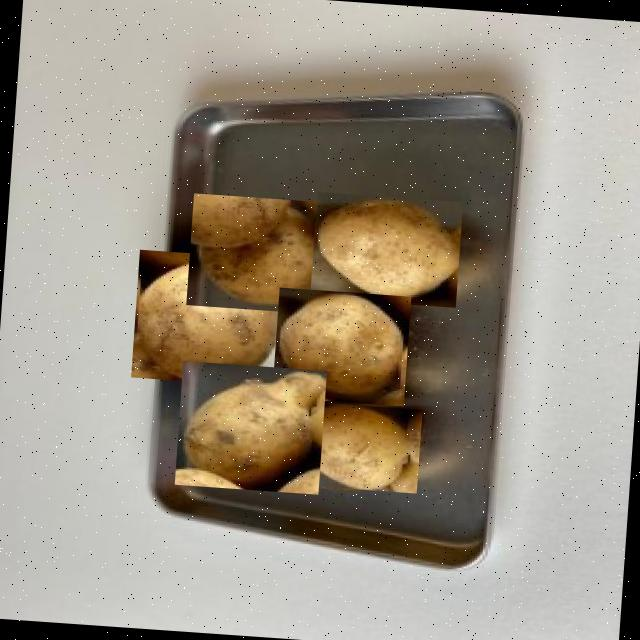Potato: (130, 249, 288, 387), (174, 360, 326, 494), (308, 192, 462, 308), (185, 193, 332, 314), (270, 287, 410, 406), (293, 401, 421, 493)
